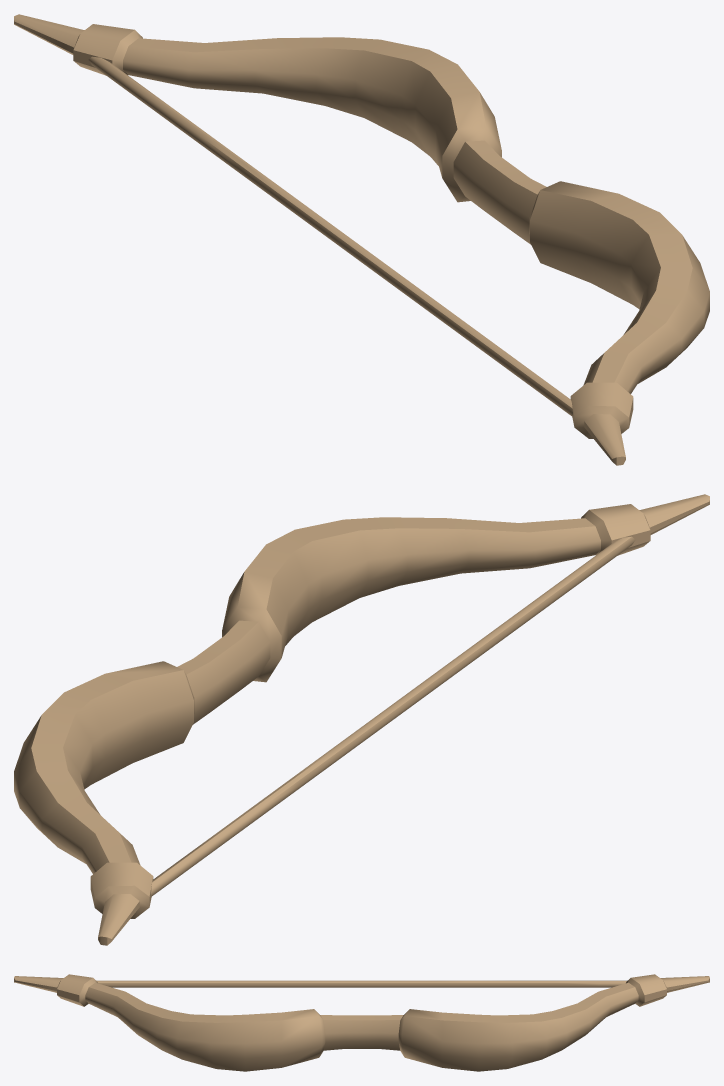
The model's file is bow_withString.glb.
The picture shows the model from 3 angles, top to bottom: view 1: azimuth 30°, elevation 25°; view 2: azimuth 150°, elevation 25°; view 3: azimuth 270°, elevation 25°; orthographic projection. The views are drawn at different scales.
Parts seen in each view (by area): view 1: bow_withString; view 2: bow_withString; view 3: bow_withString.
Part boxes in pixels (x1,y1,x2,y2): bow_withString: (14, 14, 709, 465); bow_withString: (14, 494, 709, 945); bow_withString: (14, 974, 709, 1071).
Bounding box in the file's own units: 0.4944 × 0.1556 × 1.98.
